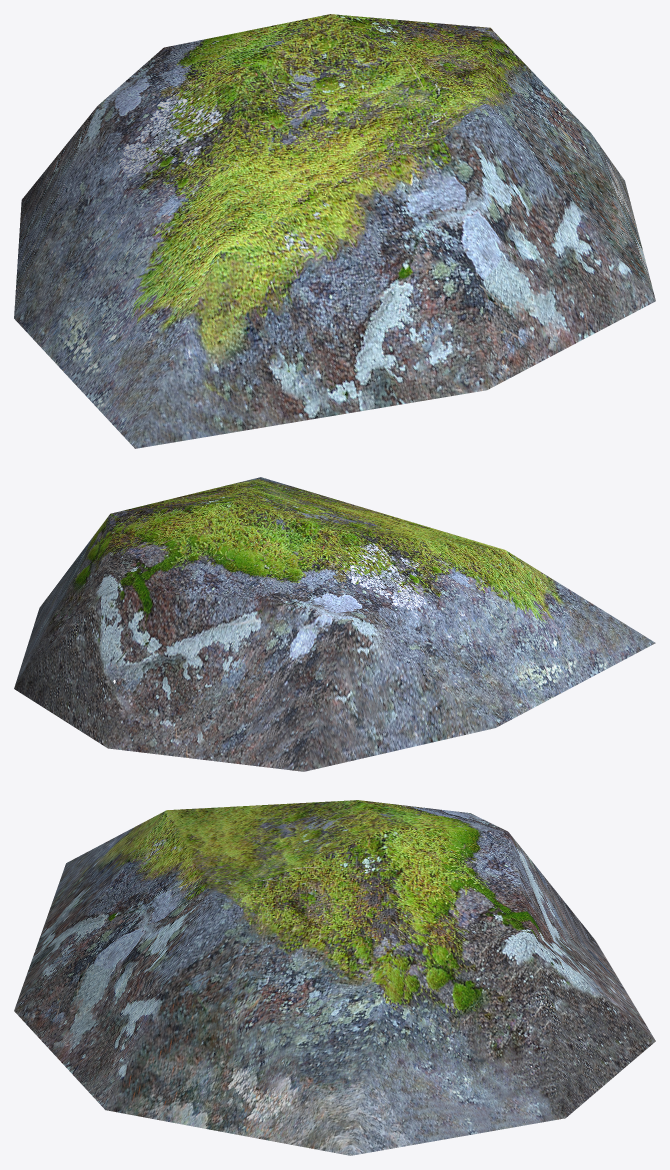
The model's file is Stone_01_v02.obj.
3 renders of one model, top to bottom at view 1: azimuth 30°, elevation 25°; view 2: azimuth 150°, elevation 25°; view 3: azimuth 270°, elevation 25°, orthographic. The views are drawn at different scales.
Visible parts, largest first — view 1: pCube1; view 2: pCube1; view 3: pCube1.
Boxes of the visible parts, x1,y1,x2,y2 form: pCube1: (14,14,655,448); pCube1: (14,477,655,771); pCube1: (14,800,655,1155).
Size of the model in its own units: 21.23 by 6.9 by 19.67.
1 material, 1 textured.
